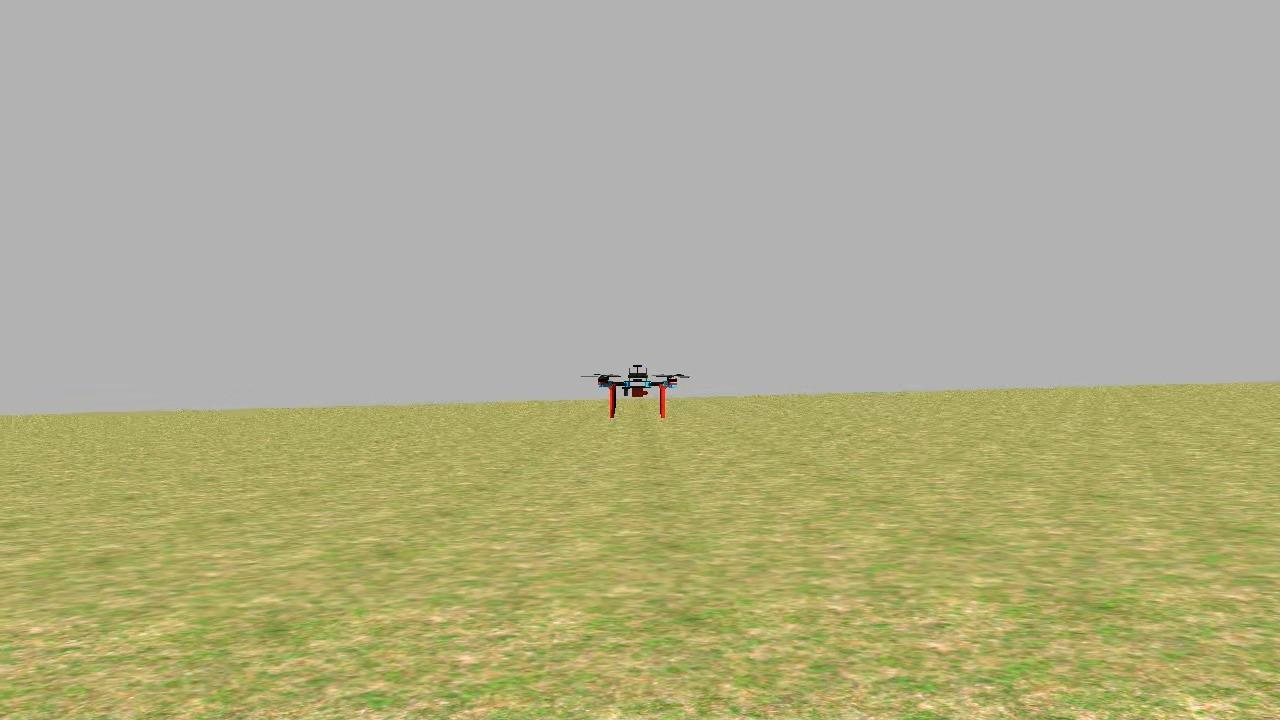UAV: (582, 350, 694, 424)
